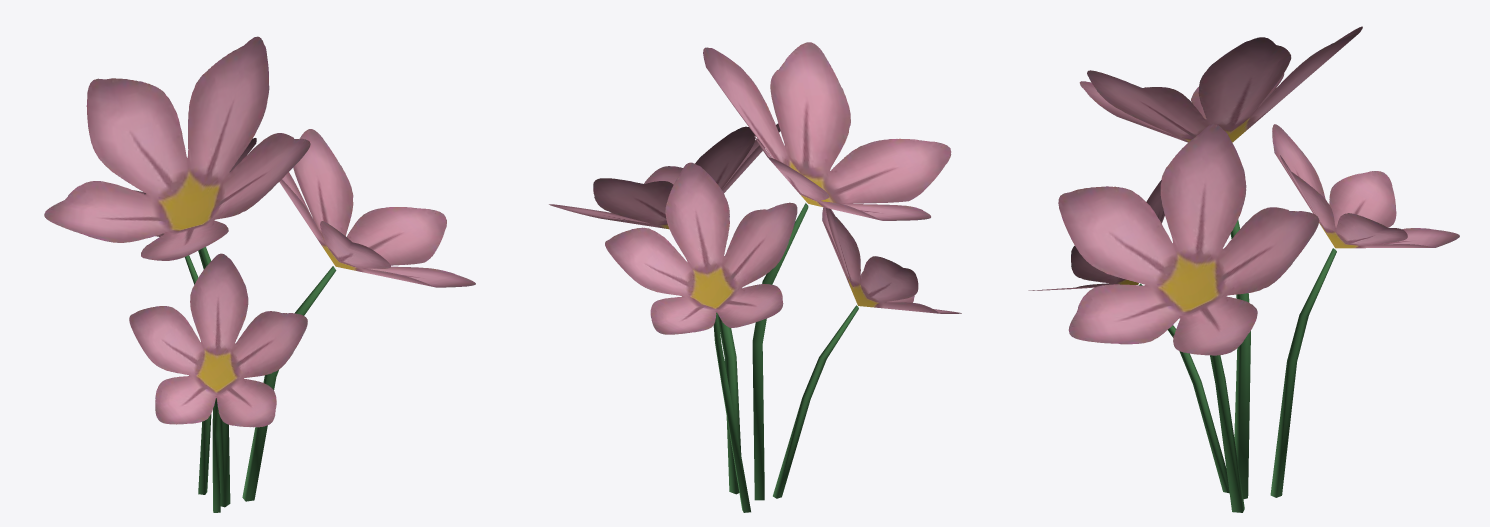
The model's file is flower_4.glb.
3 renders of one model, left to right at view 1: azimuth 30°, elevation 25°; view 2: azimuth 150°, elevation 25°; view 3: azimuth 270°, elevation 25°, orthographic. The views are drawn at different scales.
Visible parts, largest first — view 1: Flower_4_Clump; view 2: Flower_4_Clump; view 3: Flower_4_Clump.
Part boxes in pixels (x1,y1,x2,y2): Flower_4_Clump: [44, 36, 475, 512]; Flower_4_Clump: [549, 42, 961, 512]; Flower_4_Clump: [1028, 26, 1459, 512].
Bounding box in the file's own units: 0.568 × 0.6011 × 0.4979.
1 material, 1 textured.
